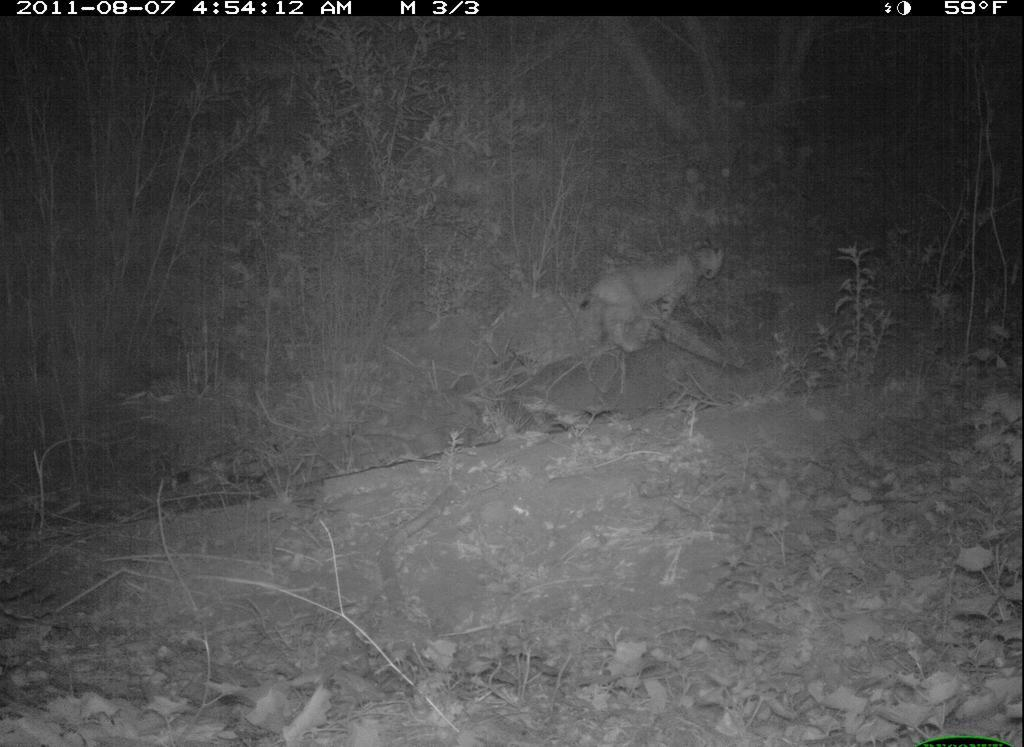bobcat: (565, 237, 731, 365)
